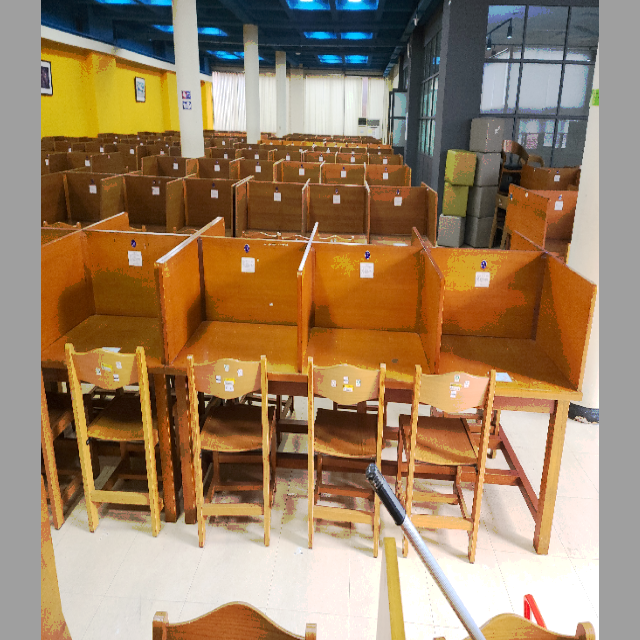empty: (446, 241, 596, 425), (306, 237, 438, 427), (168, 241, 299, 429)
